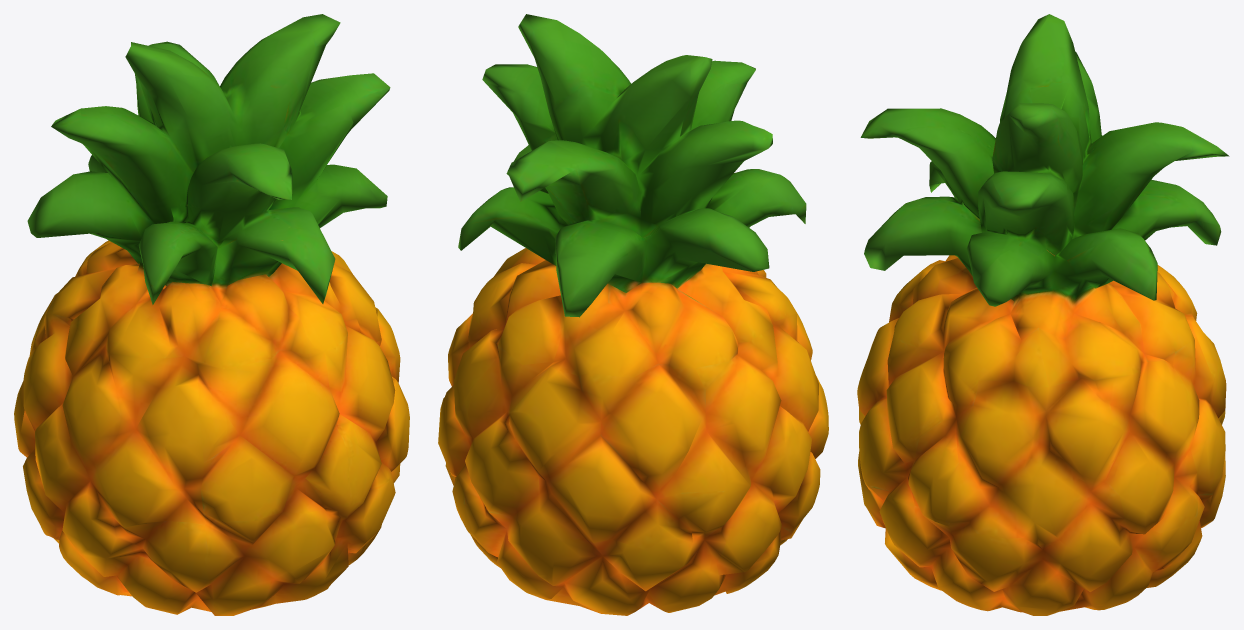
File: pineapple.glb
The picture shows the model from 3 angles, left to right: view 1: azimuth 30°, elevation 25°; view 2: azimuth 150°, elevation 25°; view 3: azimuth 270°, elevation 25°; orthographic projection. The views are drawn at different scales.
Parts seen in each view (by area): view 1: prop; view 2: prop; view 3: prop.
Boxes of the visible parts, x1,y1,x2,y2 form: prop: (14, 14, 409, 615); prop: (438, 14, 828, 615); prop: (857, 14, 1229, 615).
Size of the model in its own units: 0.6461 by 1 by 0.6389.
Materials: 1 (1 with a texture image).
